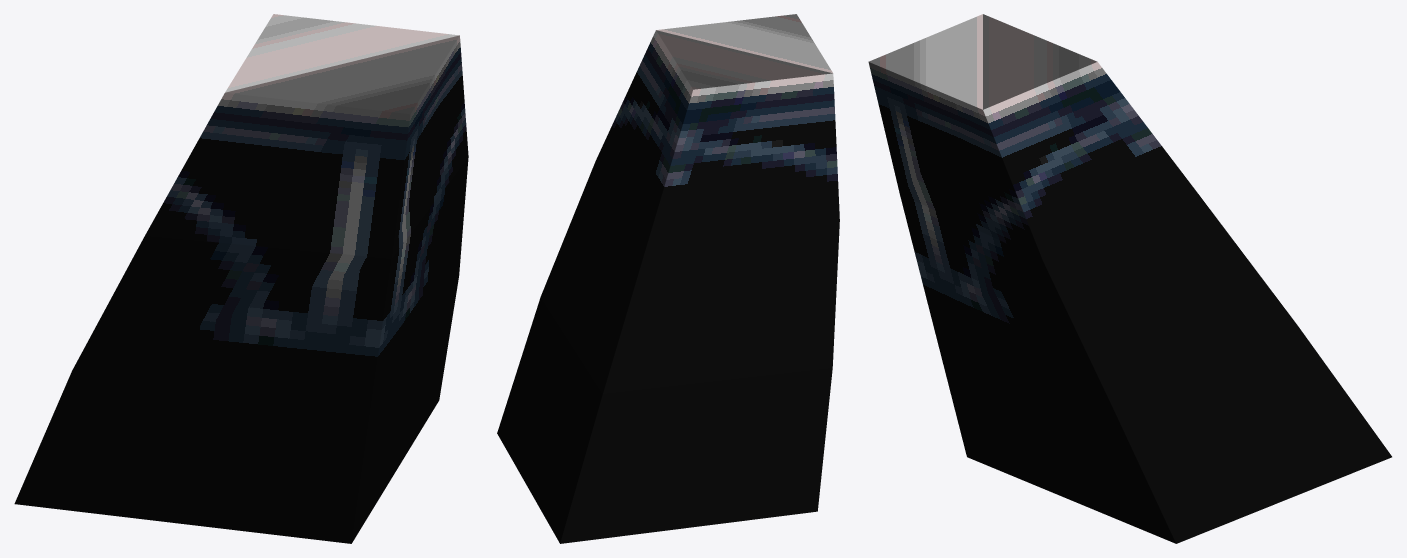
The picture shows the model from 3 angles, left to right: view 1: azimuth 30°, elevation 25°; view 2: azimuth 150°, elevation 25°; view 3: azimuth 270°, elevation 25°; orthographic projection. The views are drawn at different scales.
Visible parts, largest first — view 1: prim131-funnel; view 2: prim131-funnel; view 3: prim131-funnel.
Boxes of the visible parts, bbox=[...] form: prim131-funnel: bbox=[14, 14, 468, 543]; prim131-funnel: bbox=[497, 14, 839, 543]; prim131-funnel: bbox=[868, 14, 1391, 543].
Bounding box in the file's own units: 537 × 571 × 686.
1 material, 1 textured.
